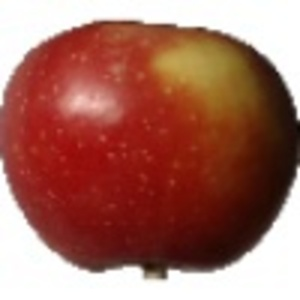maçã braeburn: (1, 20, 300, 275)
